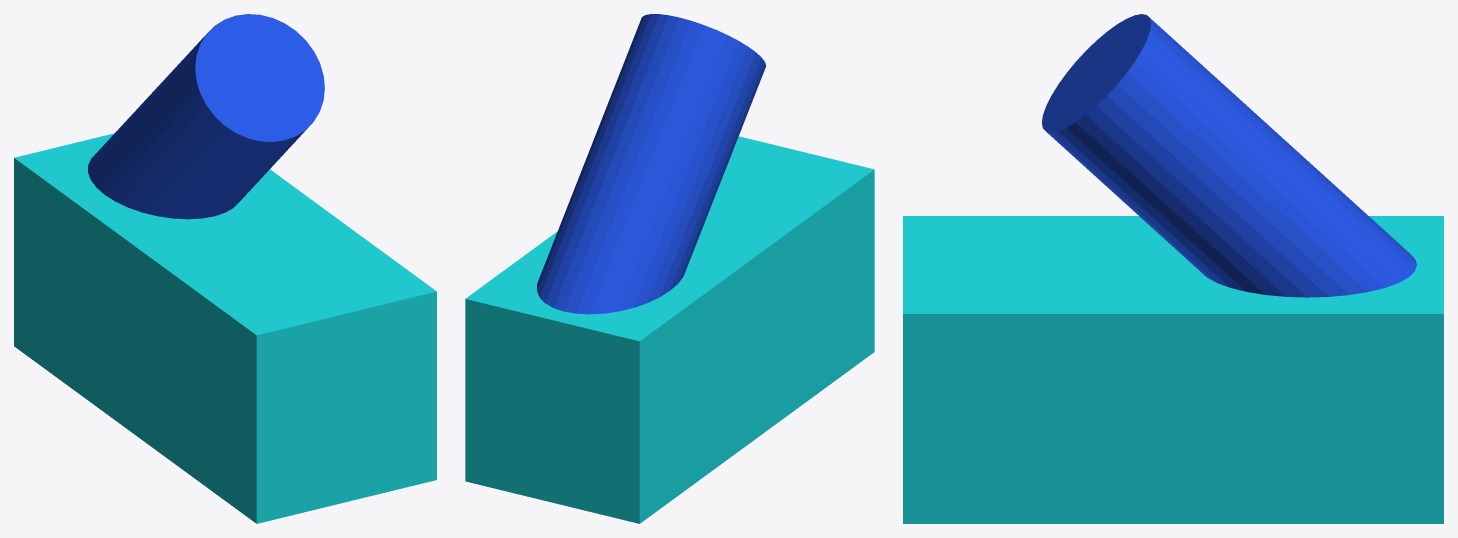
The model's file is blue_artillery.fbx.
3 views of the same model, side by side, from view 1: azimuth 30°, elevation 25°; view 2: azimuth 150°, elevation 25°; view 3: azimuth 270°, elevation 25° (orthographic). The views are drawn at different scales.
Parts seen in each view (by area): view 1: Cube, Cylinder; view 2: Cube, Cylinder; view 3: Cube, Cylinder.
Boxes of the visible parts, box(x1,y1,x2,y2) form: Cube: box(14, 133, 436, 523); Cylinder: box(88, 14, 324, 219); Cube: box(465, 136, 874, 523); Cylinder: box(537, 14, 765, 314); Cube: box(903, 216, 1443, 523); Cylinder: box(1042, 14, 1416, 297).
Bounding box in the file's own units: 60 × 129 × 140.
